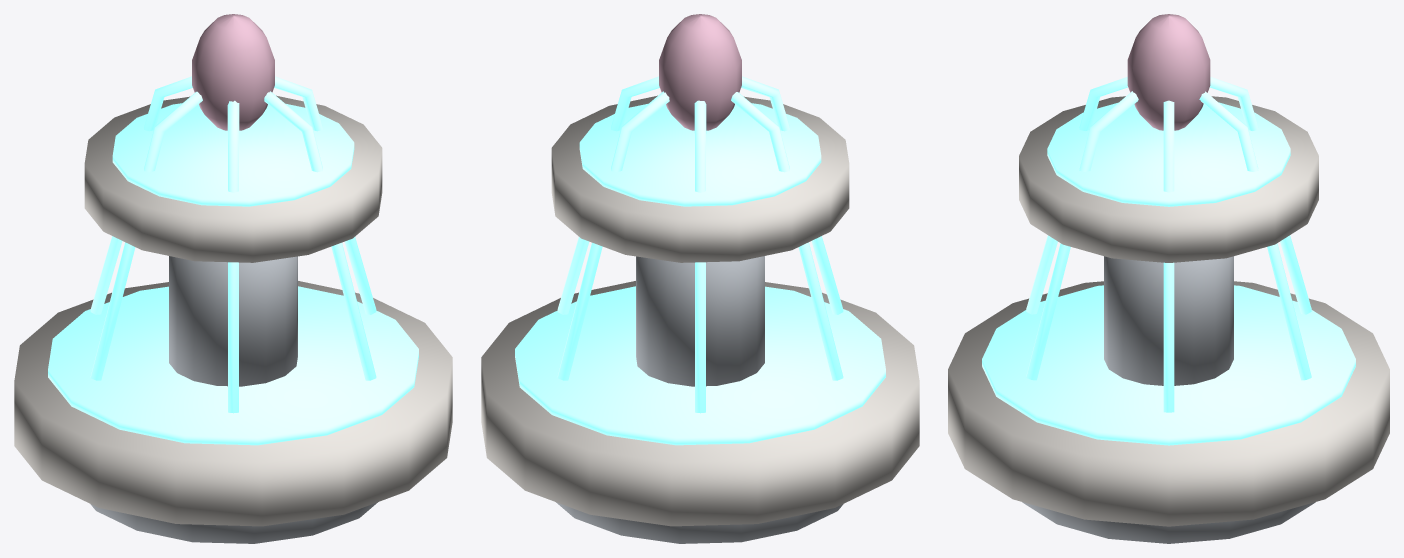
File: prp_dream_fountain.glb
3 renders of one model, left to right at view 1: azimuth 30°, elevation 25°; view 2: azimuth 150°, elevation 25°; view 3: azimuth 270°, elevation 25°, orthographic.
Parts seen in each view (by area): view 1: PRP_dream_fountain_pool, PRP_dream_fountain_water_enamel, PRP_dream_fountain_upper_basin, PRP_dream_fountain_upper_water, PRP_dream_fountain_central_column, PRP_dream_fountain_nacre_drop, PRP_dream_fountain_foot, PRP_dream_fountain_waterjet_5, PRP_dream_fountain_waterjet_3, PRP_dream_fountain_waterjet_4, PRP_dream_fountain_waterjet_0, PRP_dream_fountain_waterjet_2; view 2: PRP_dream_fountain_pool, PRP_dream_fountain_water_enamel, PRP_dream_fountain_upper_basin, PRP_dream_fountain_upper_water, PRP_dream_fountain_central_column, PRP_dream_fountain_nacre_drop, PRP_dream_fountain_foot, PRP_dream_fountain_waterjet_1, PRP_dream_fountain_waterjet_3, PRP_dream_fountain_waterjet_2, PRP_dream_fountain_waterjet_0, PRP_dream_fountain_waterjet_4; view 3: PRP_dream_fountain_pool, PRP_dream_fountain_water_enamel, PRP_dream_fountain_upper_basin, PRP_dream_fountain_upper_water, PRP_dream_fountain_central_column, PRP_dream_fountain_nacre_drop, PRP_dream_fountain_foot, PRP_dream_fountain_waterjet_0, PRP_dream_fountain_waterjet_5, PRP_dream_fountain_waterjet_1, PRP_dream_fountain_waterjet_2, PRP_dream_fountain_waterjet_4.
Boxes of the visible parts, x1,y1,x2,y2 form: PRP_dream_fountain_pool: [14, 281, 452, 526]; PRP_dream_fountain_water_enamel: [48, 286, 418, 445]; PRP_dream_fountain_upper_basin: [84, 95, 382, 262]; PRP_dream_fountain_upper_water: [112, 103, 354, 206]; PRP_dream_fountain_central_column: [169, 256, 297, 386]; PRP_dream_fountain_nacre_drop: [192, 14, 274, 130]; PRP_dream_fountain_foot: [90, 502, 377, 543]; PRP_dream_fountain_waterjet_5: [264, 91, 376, 380]; PRP_dream_fountain_waterjet_3: [90, 91, 202, 380]; PRP_dream_fountain_waterjet_4: [227, 100, 239, 413]; PRP_dream_fountain_waterjet_0: [274, 76, 376, 314]; PRP_dream_fountain_waterjet_2: [90, 76, 192, 314]; PRP_dream_fountain_pool: [481, 281, 919, 526]; PRP_dream_fountain_water_enamel: [515, 286, 885, 445]; PRP_dream_fountain_upper_basin: [551, 95, 849, 262]; PRP_dream_fountain_upper_water: [579, 103, 821, 206]; PRP_dream_fountain_central_column: [636, 256, 764, 386]; PRP_dream_fountain_nacre_drop: [659, 14, 741, 130]; PRP_dream_fountain_foot: [556, 502, 843, 543]; PRP_dream_fountain_waterjet_1: [557, 91, 669, 380]; PRP_dream_fountain_waterjet_3: [731, 92, 843, 380]; PRP_dream_fountain_waterjet_2: [694, 100, 706, 413]; PRP_dream_fountain_waterjet_0: [557, 76, 659, 314]; PRP_dream_fountain_waterjet_4: [741, 76, 843, 314]; PRP_dream_fountain_pool: [948, 281, 1389, 526]; PRP_dream_fountain_water_enamel: [982, 285, 1355, 445]; PRP_dream_fountain_upper_basin: [1019, 96, 1318, 262]; PRP_dream_fountain_upper_water: [1047, 102, 1290, 206]; PRP_dream_fountain_central_column: [1104, 256, 1233, 385]; PRP_dream_fountain_nacre_drop: [1127, 14, 1210, 130]; PRP_dream_fountain_foot: [1022, 502, 1315, 543]; PRP_dream_fountain_waterjet_0: [1163, 100, 1174, 412]; PRP_dream_fountain_waterjet_5: [1026, 91, 1138, 380]; PRP_dream_fountain_waterjet_1: [1199, 91, 1311, 380]; PRP_dream_fountain_waterjet_2: [1209, 77, 1311, 314]; PRP_dream_fountain_waterjet_4: [1026, 77, 1127, 314].
Bounding box in the file's own units: 1.56 × 1.79 × 1.56.
